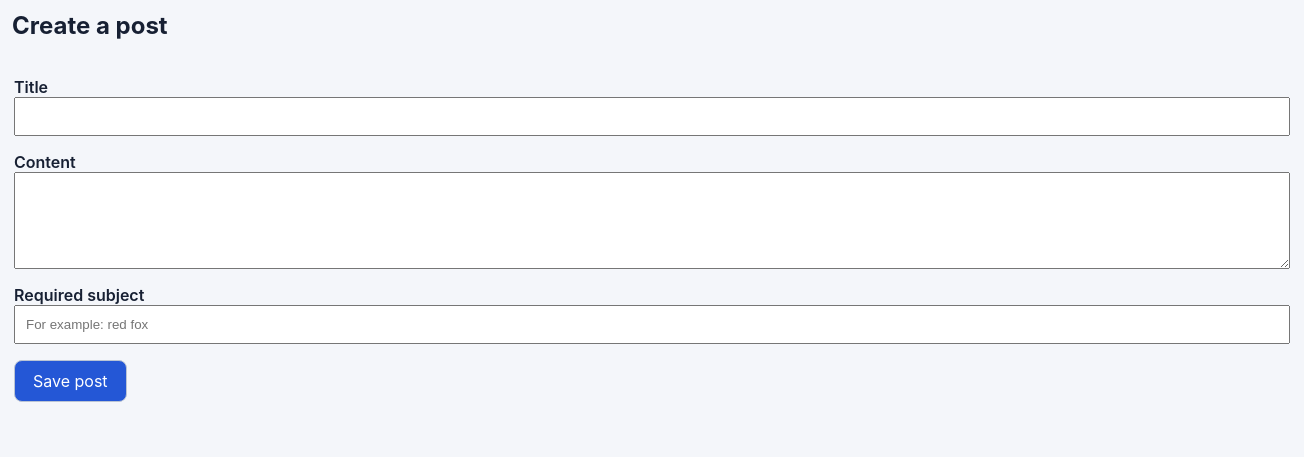
saves the post and clears the form after success
Type "Urban red foxes" into the field labelled "Title" at (652, 116), box [14,97,1290,136]
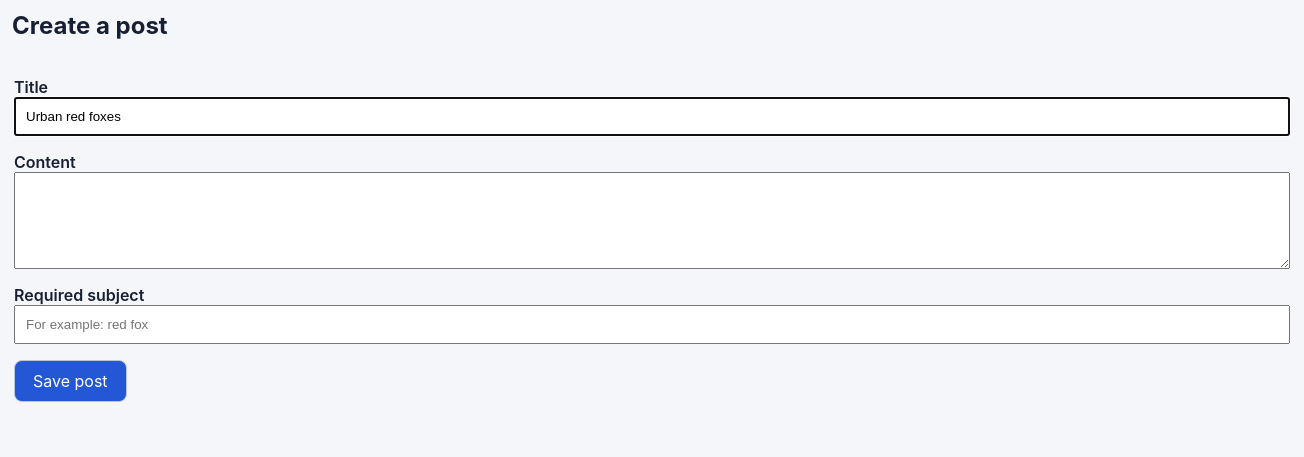
Type "A post about red foxes." into the text box labelled "Content" at (652, 220), box [14,172,1290,269]
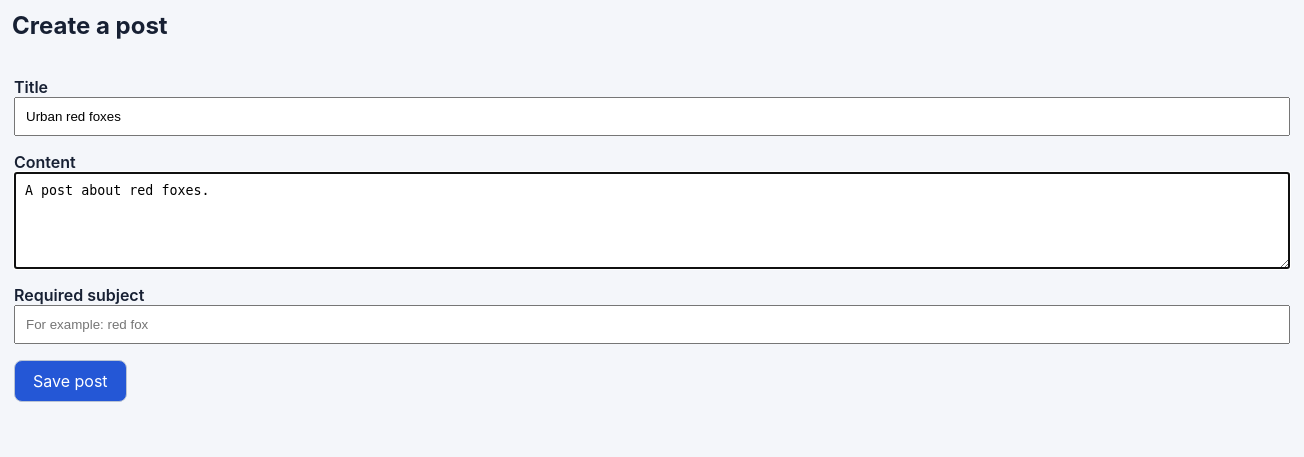
Type "red fox" into the field labelled "Required subject" at (652, 324), box [14,305,1290,344]
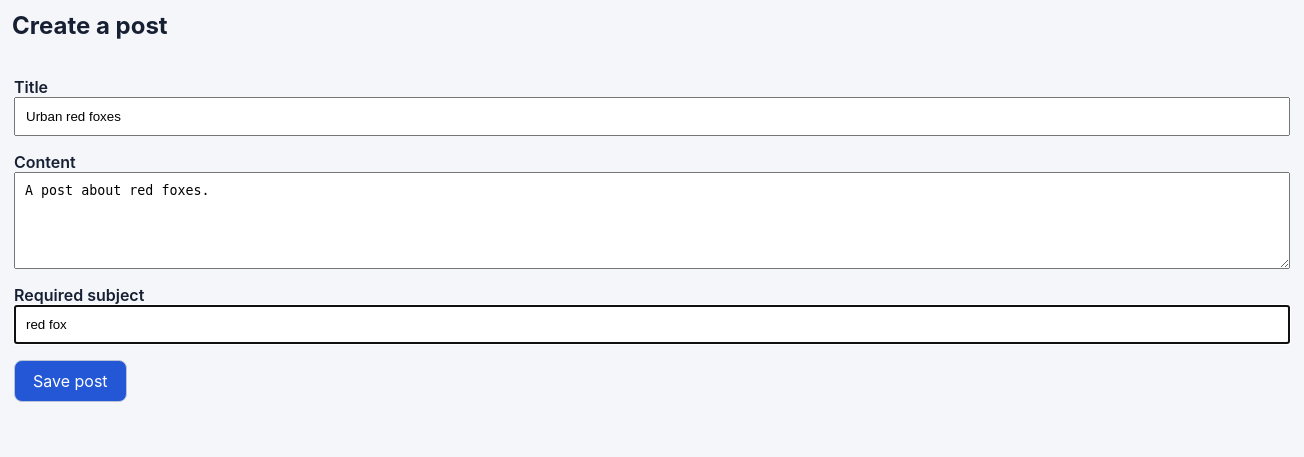
Click the button "Save post" at (70, 381), box [14,360,127,402]
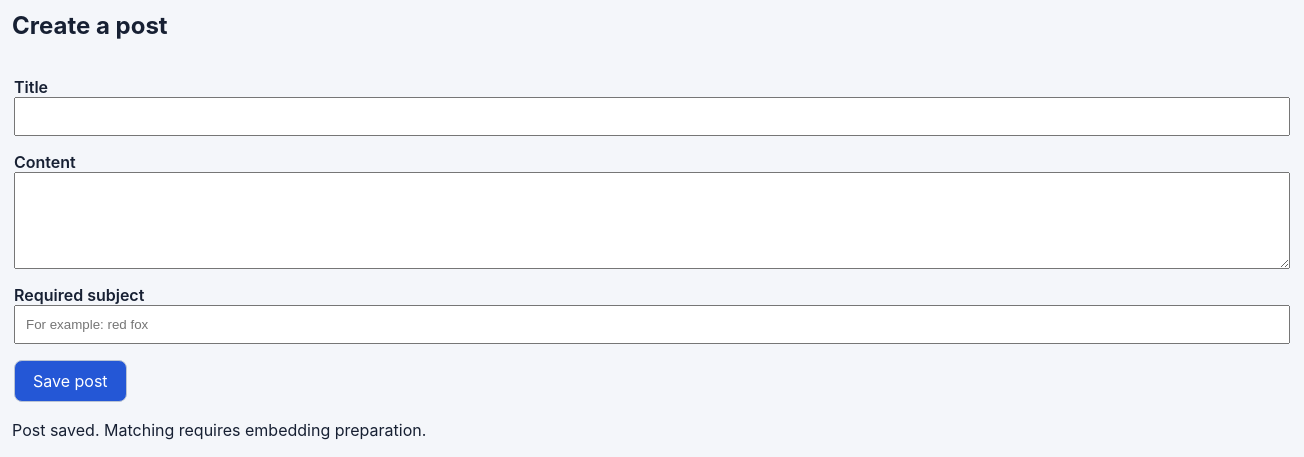
Expected: the text "Post saved. Matching requires embedding preparation." is shown, [12,420,426,440]
Expected: the field labelled "Title" is empty, [14,97,1290,136]
Expected: the text box labelled "Content" is empty, [14,172,1290,269]
